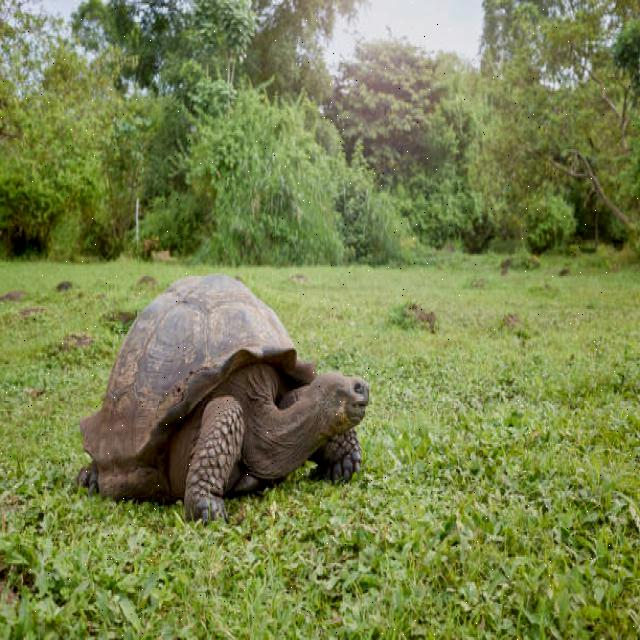tortoise: (73, 271, 379, 527)
